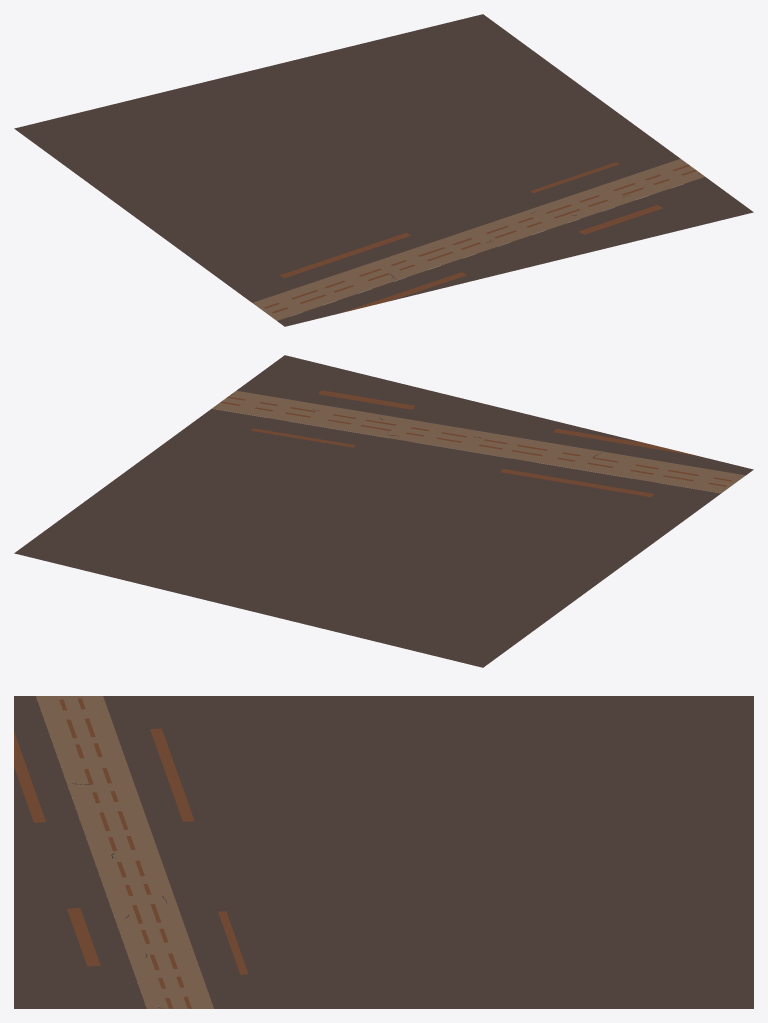
File: crossing-2-3.glb
3 views of the same model, one above another, from view 1: azimuth 30°, elevation 25°; view 2: azimuth 150°, elevation 25°; view 3: azimuth 270°, elevation 25° (orthographic). The views are drawn at different scales.
Visible parts, largest first — view 1: crossing-2-3; view 2: crossing-2-3; view 3: crossing-2-3.
Boxes of the visible parts, <box> form: crossing-2-3: <box>14,14,753,326</box>; crossing-2-3: <box>14,355,753,667</box>; crossing-2-3: <box>14,696,753,1008</box>.
Bounding box in the file's own units: 100 × 0.0135 × 100.
